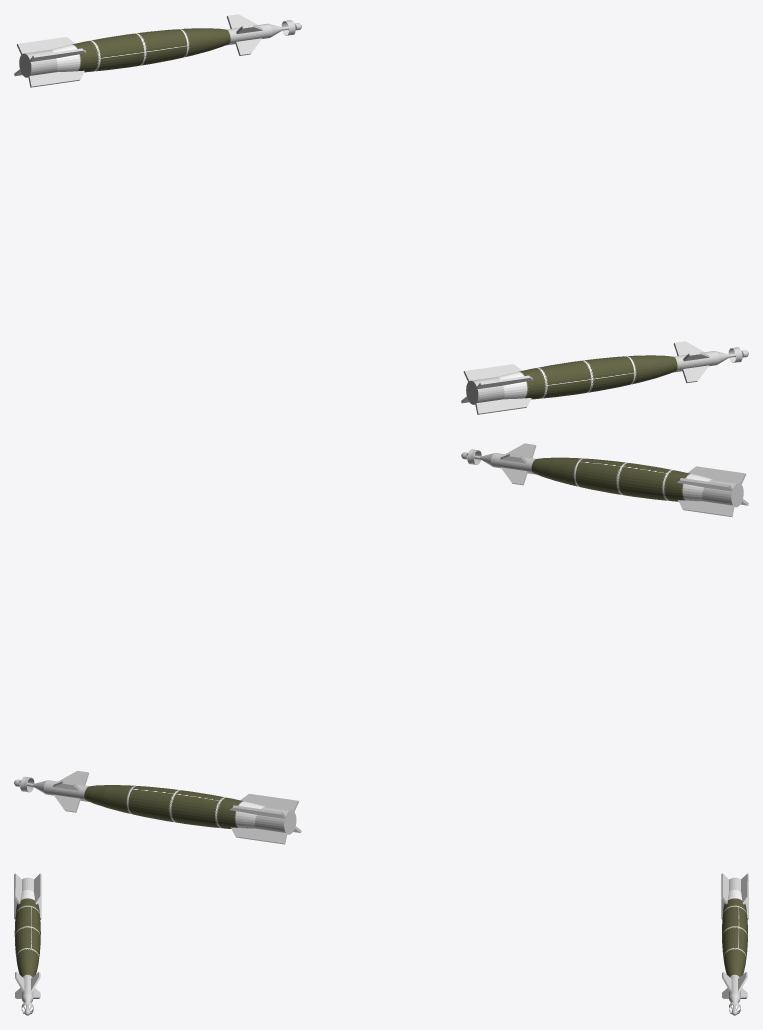
File: a10cgbu10111.glb
The picture shows the model from 3 angles, top to bottom: view 1: azimuth 30°, elevation 25°; view 2: azimuth 150°, elevation 25°; view 3: azimuth 270°, elevation 25°; orthographic projection. The views are drawn at different scales.
Visible parts, largest first — view 1: 球.009, 球.008; view 2: 球.009, 球.008; view 3: 球.009, 球.008.
Part boxes in pixels (x1,y1,x2,y2): 球.009: (461,341,748,414); 球.008: (14,14,301,87); 球.009: (461,443,748,517); 球.008: (14,770,301,844); 球.009: (14,873,41,1015); 球.008: (721,873,748,1015).
Size of the model in its own units: 4.25 by 0.7652 by 12.24.
Materials: 1 (1 with a texture image).
